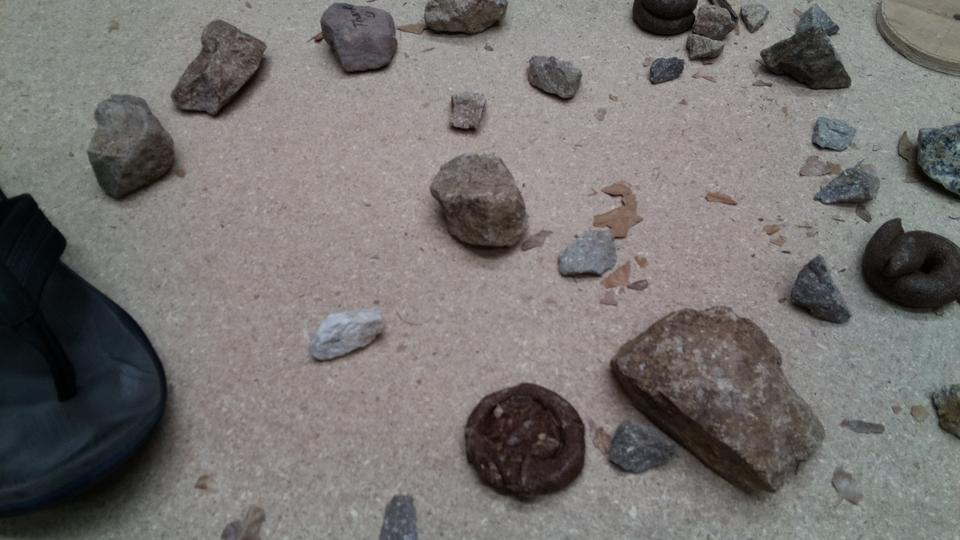poop: (461, 378, 590, 503), (859, 215, 960, 316), (629, 1, 701, 39)
